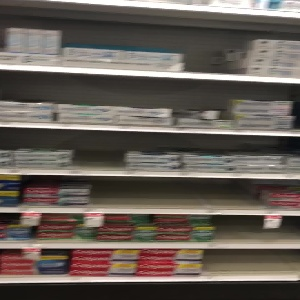void: (90, 177, 266, 210), (183, 10, 244, 76), (203, 248, 300, 278), (210, 216, 300, 245), (72, 129, 125, 173)
